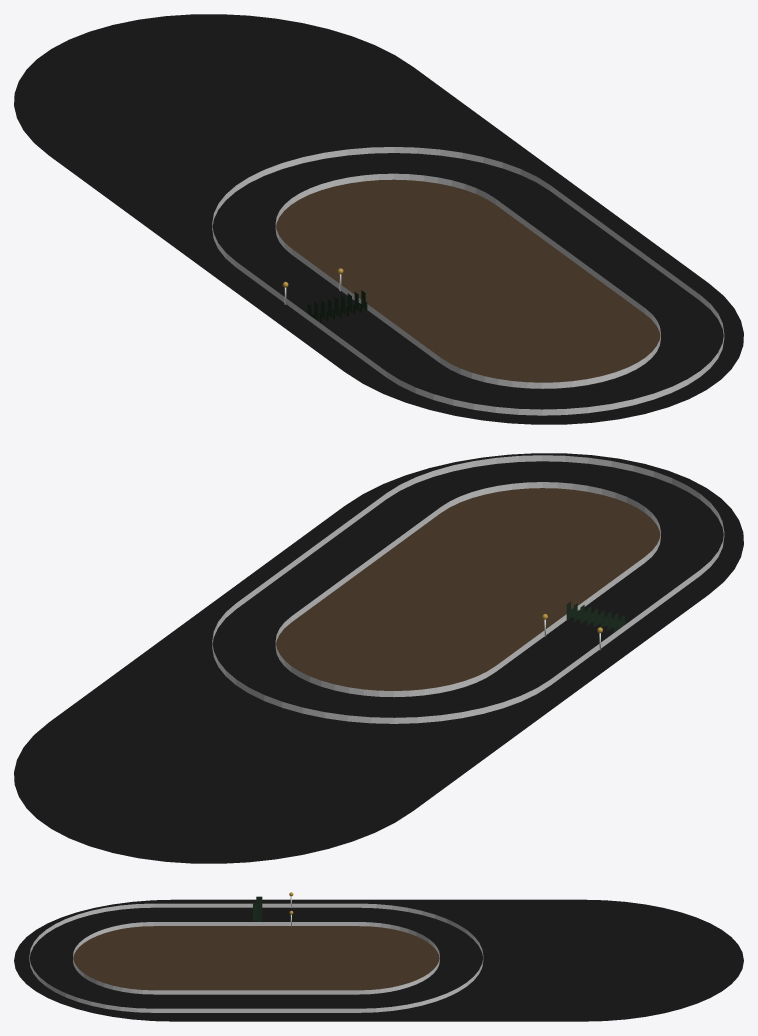
File: Pavement.fbx
3 renders of one model, top to bottom at view 1: azimuth 30°, elevation 25°; view 2: azimuth 150°, elevation 25°; view 3: azimuth 270°, elevation 25°, orthographic. The views are drawn at different scales.
Visible parts, largest first — view 1: Cylinder; view 2: Cylinder; view 3: Cylinder.
Part boxes in pixels (x1,y1,x2,y2): Cylinder: [14, 14, 743, 424]; Cylinder: [14, 453, 743, 863]; Cylinder: [14, 892, 743, 1021].
Bounding box in the file's own units: 14059 × 832 × 35561.
